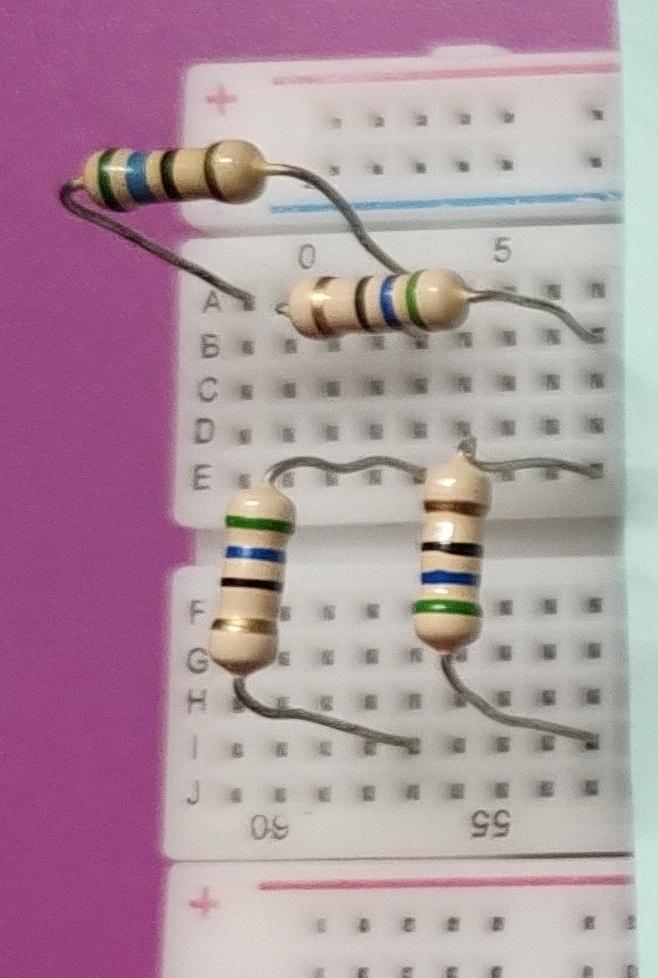resistor: (200, 467, 301, 682), (405, 455, 498, 681), (73, 133, 286, 221), (277, 259, 478, 349)
